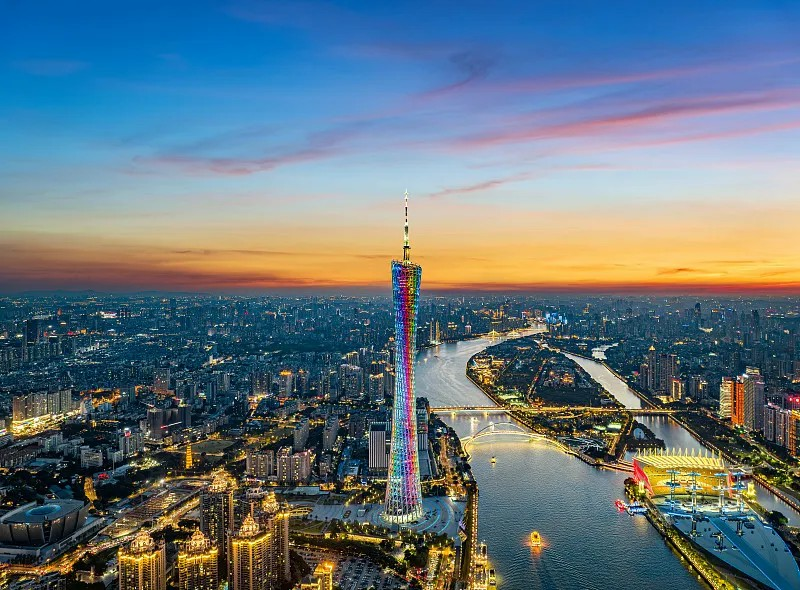Canton: (381, 188, 425, 525)
